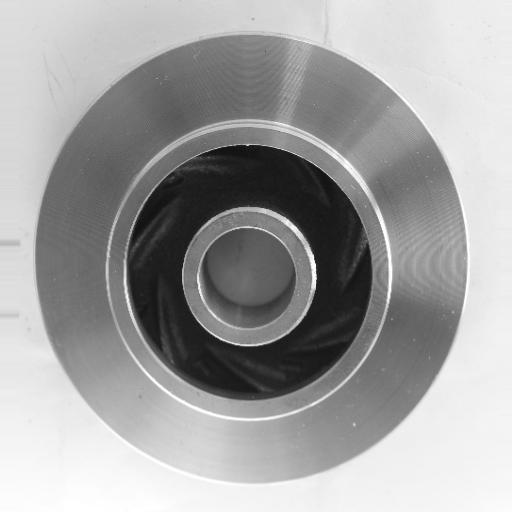polished_casting: (32, 31, 469, 490)
